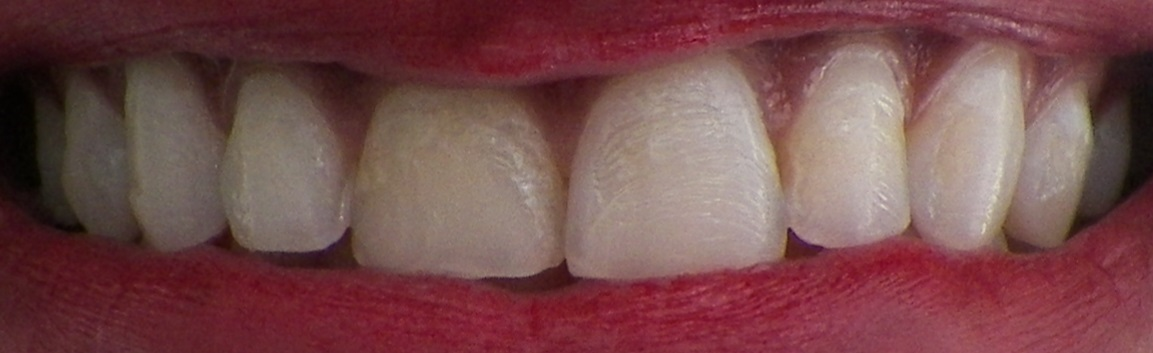boca: (19, 57, 1135, 279)
